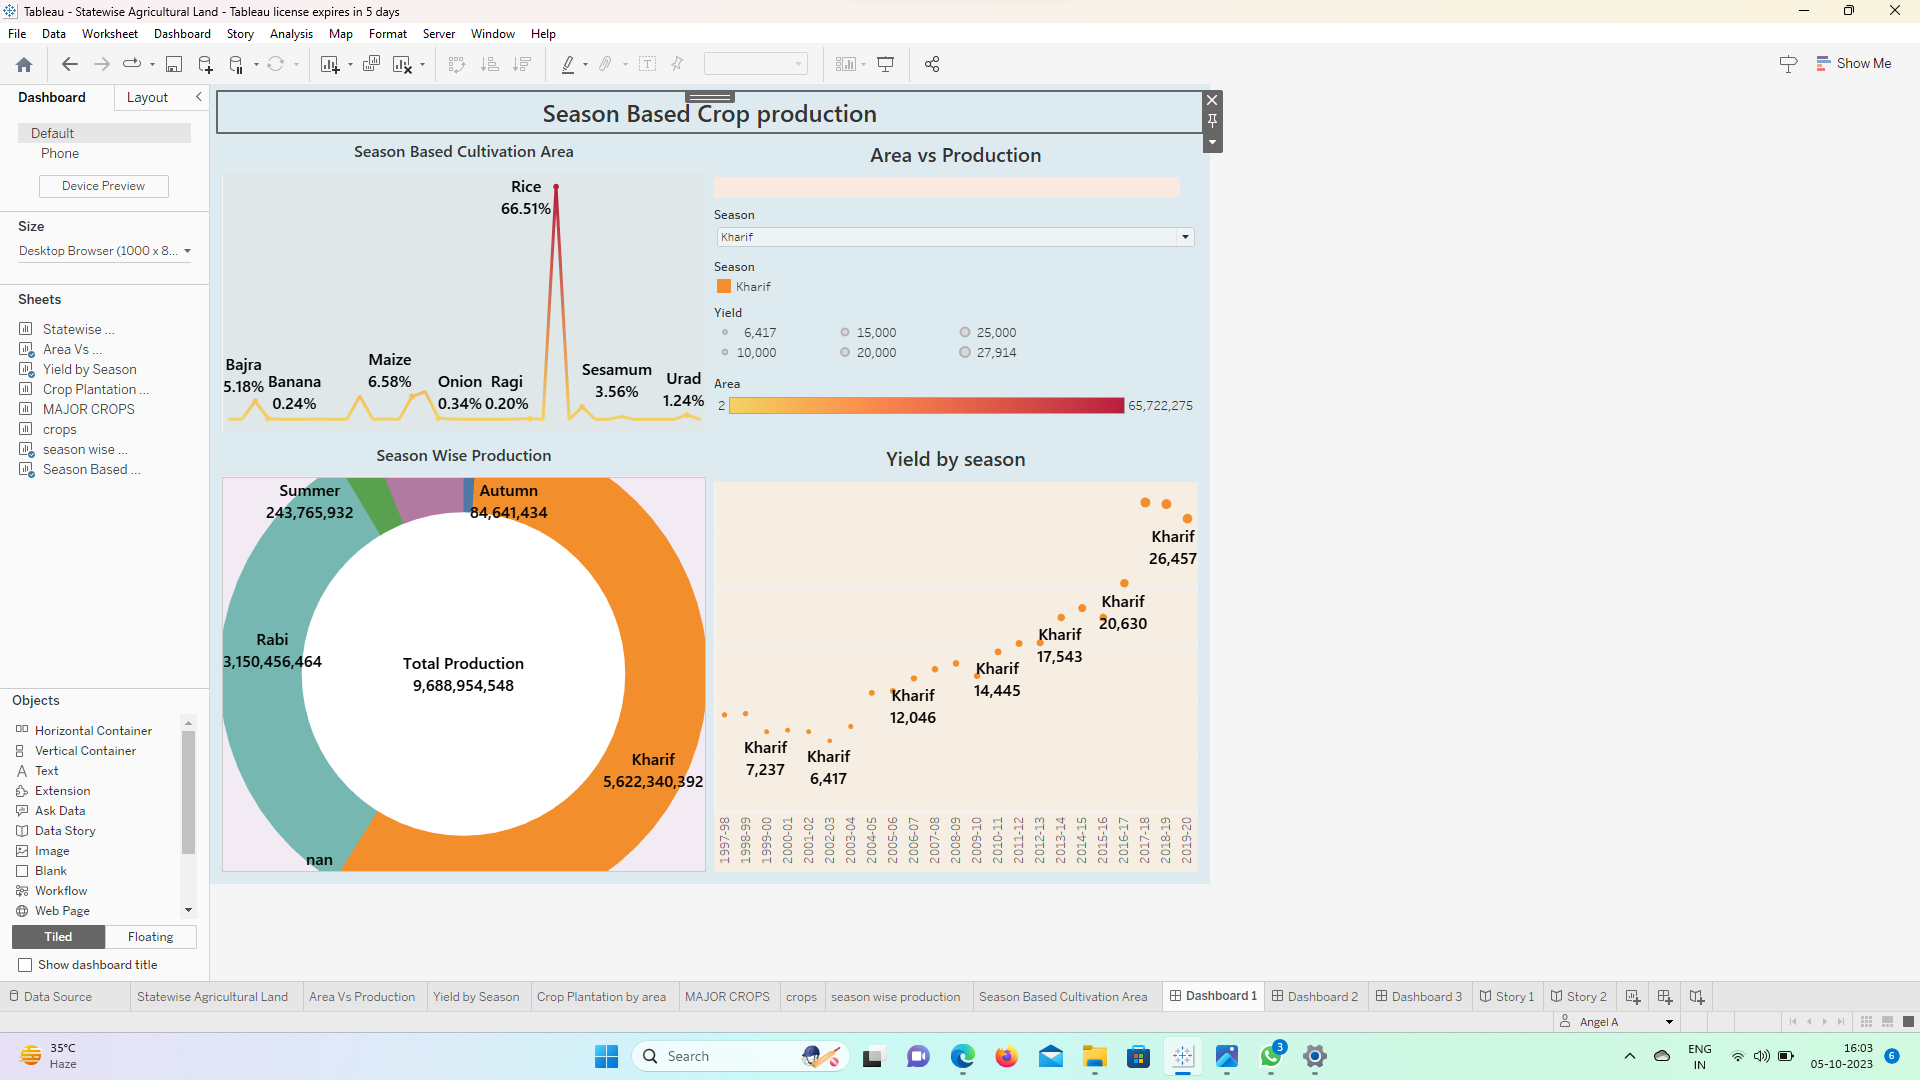

The page's visual inventory and layout, read from the dashboard file:
{"tool":"tableau","page":{"name":"Dashboard 1","canvas":[1000,800],"ordinal":0},"visuals":[{"type":"title","box":[8,8,984,40]},{"type":"worksheet","title":"Season Based Cultivation Area","mark":"Line","rows":["Area"],"cols":["Crop"],"box":[8,48,492,303.7]},{"type":"worksheet","title":"Area Vs Production","mark":"Automatic","rows":["State"],"cols":["Area","Calculation_1313925197010599936","Production"],"box":[500,48,492,70.3]},{"type":"filter","title":"Yield by Season","param":"[federated.061h10g1n3oqdy13dc7ra1b982wl].[none:Season:nk]","box":[500,118.3,492,52]},{"type":"legend","title":"Yield by Season","param":"[federated.061h10g1n3oqdy13dc7ra1b982wl].[none:Season:nk]","box":[500,170.3,492,46]},{"type":"legend","title":"Yield by Season","param":"[federated.061h10g1n3oqdy13dc7ra1b982wl].[sum:Yield:qk]","box":[500,216.3,492,70.3]},{"type":"legend","title":"Season Based Cultivation Area","param":"[federated.061h10g1n3oqdy13dc7ra1b982wl].[sum:Area:qk]","box":[500,286.7,492,65]},{"type":"worksheet","title":"season wise production","mark":"Pie","rows":["Calculation_1229201229292306434","Calculation_1229201229292306434"],"box":[8,351.7,492,440.3]},{"type":"worksheet","title":"Yield by Season","mark":"Pie","rows":["Yield"],"cols":["Year"],"box":[500,351.7,492,440.3]}]}

Visuals, with their boxes on the page's 1000x800 design canvas (x1, y1, x2, y2). These are canvas units, not pixel positions in the 1920x1080 screenshot, which may show the page scaled, cropped or inside an application window:
title: left=8, top=8, right=992, bottom=48
"Season Based Cultivation Area" worksheet (Line marks): left=8, top=48, right=500, bottom=352
"Area Vs Production" worksheet: left=500, top=48, right=992, bottom=118
"Yield by Season" filter: left=500, top=118, right=992, bottom=170
"Yield by Season" legend: left=500, top=170, right=992, bottom=216
"Yield by Season" legend: left=500, top=216, right=992, bottom=287
"Season Based Cultivation Area" legend: left=500, top=287, right=992, bottom=352
"season wise production" worksheet (Pie marks): left=8, top=352, right=500, bottom=792
"Yield by Season" worksheet (Pie marks): left=500, top=352, right=992, bottom=792
